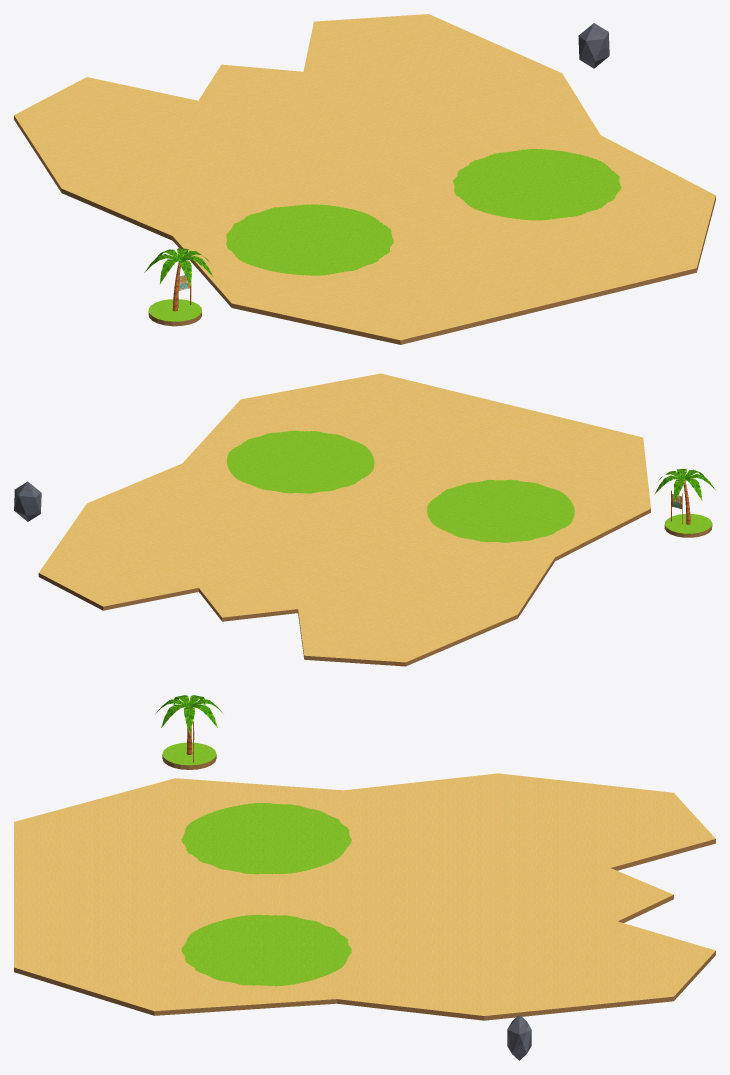
File: surface-19-CWMQyxLF.glb
3 renders of one model, top to bottom at view 1: azimuth 30°, elevation 25°; view 2: azimuth 150°, elevation 25°; view 3: azimuth 270°, elevation 25°, orthographic. The views are drawn at different scales.
Visible parts, largest first — view 1: HI_Surface_19, FLC_Regions_19, HI_SceneryIslet_0.008, HI_Palm.007, HI_BasaltOutcrop.008; view 2: HI_Surface_19, FLC_Regions_19, HI_SceneryIslet_0.008, HI_Palm.007, HI_BasaltOutcrop.008; view 3: HI_Surface_19, FLC_Regions_19, HI_SceneryIslet_0.008, HI_Palm.007, HI_BasaltOutcrop.008.
Boxes of the visible parts, left/top/right/bottom form: HI_Surface_19: left=14, top=14, right=715, bottom=344; FLC_Regions_19: left=226, top=149, right=621, bottom=275; HI_SceneryIslet_0.008: left=148, top=299, right=201, bottom=326; HI_Palm.007: left=144, top=248, right=213, bottom=311; HI_BasaltOutcrop.008: left=578, top=23, right=609, bottom=68; HI_Surface_19: left=38, top=373, right=650, bottom=666; FLC_Regions_19: left=226, top=430, right=574, bottom=542; HI_SceneryIslet_0.008: left=664, top=513, right=712, bottom=537; HI_Palm.007: left=654, top=469, right=715, bottom=524; HI_BasaltOutcrop.008: left=14, top=481, right=41, bottom=521; HI_Surface_19: left=14, top=773, right=715, bottom=1020; FLC_Regions_19: left=181, top=802, right=351, bottom=986; HI_SceneryIslet_0.008: left=162, top=742, right=216, bottom=769; HI_Palm.007: left=155, top=695, right=223, bottom=754; HI_BasaltOutcrop.008: left=507, top=1015, right=531, bottom=1060.
Size of the model in its own units: 45.25 by 5.15 by 44.
Materials: 7 (6 with a texture image).
